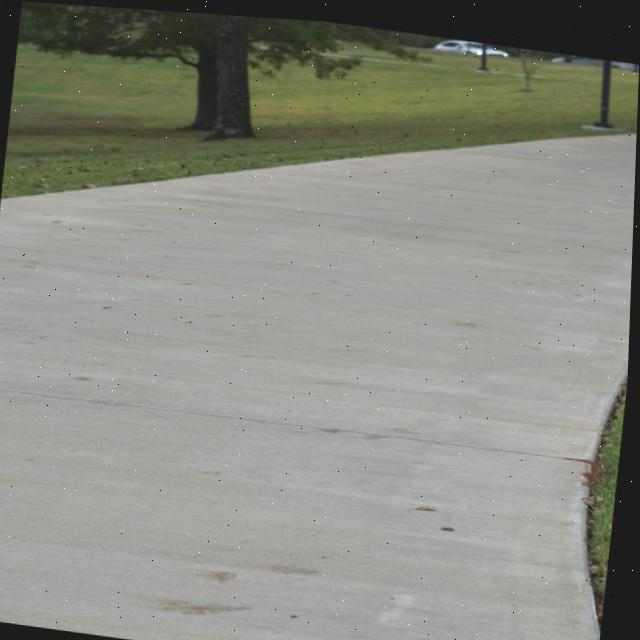Sidewalk: (0, 124, 637, 640)
